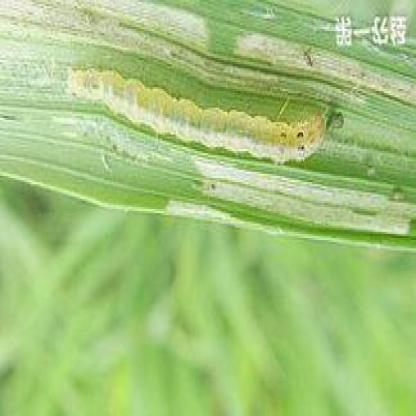leaf-folder: (66, 60, 342, 172)
